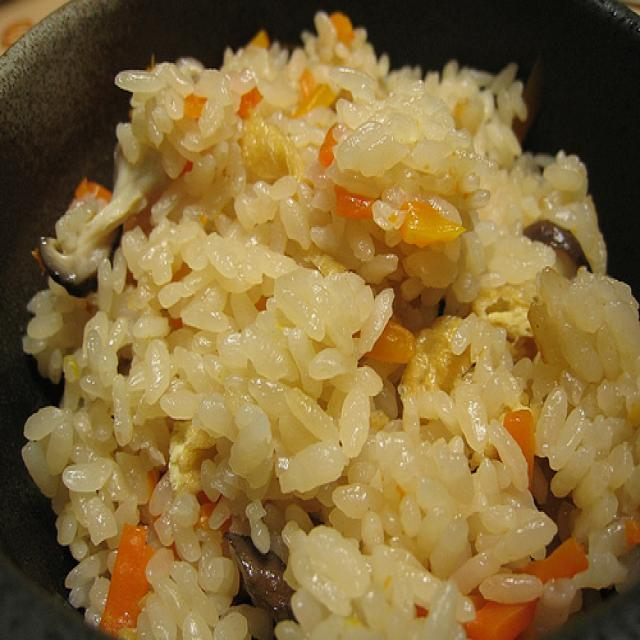米饭主食: (9, 17, 640, 640)
